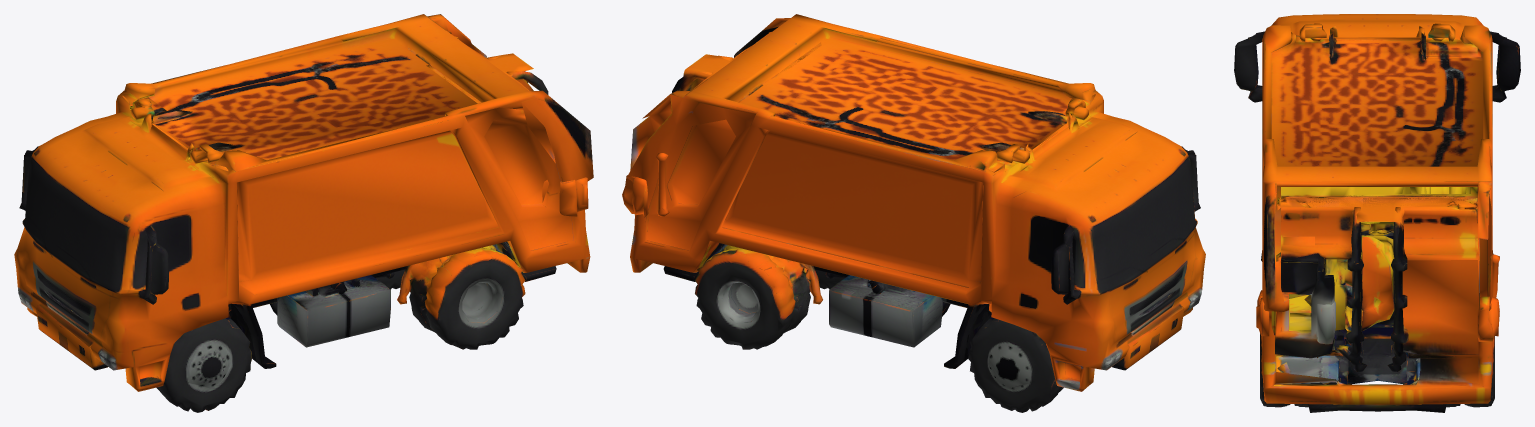
The model's file is Meshy_AI_a_garbage_truck_0219085537_texture.glb.
The picture shows the model from 3 angles, left to right: view 1: azimuth 30°, elevation 25°; view 2: azimuth 150°, elevation 25°; view 3: azimuth 270°, elevation 25°; orthographic projection. The views are drawn at different scales.
Bounding box in the file's own units: 1.91 × 0.9393 × 0.9589.
1 material, 1 textured.
